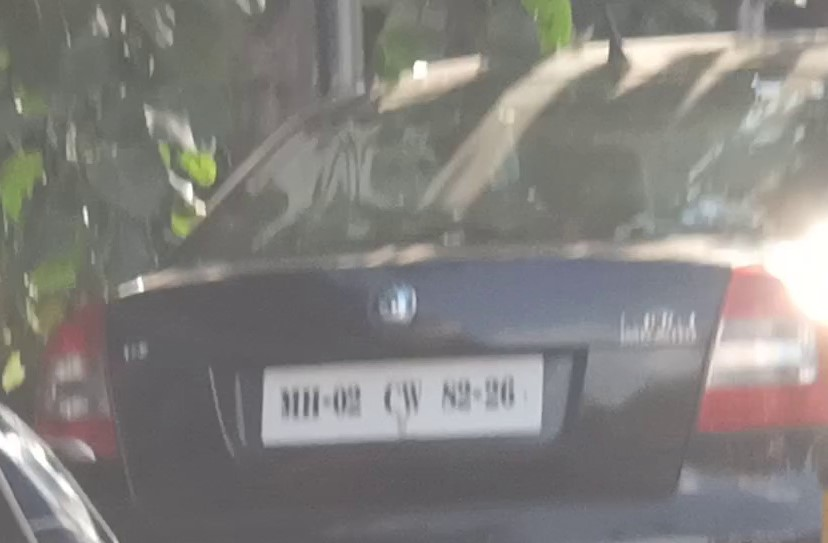MH02CW8226: (262, 353, 545, 436)
